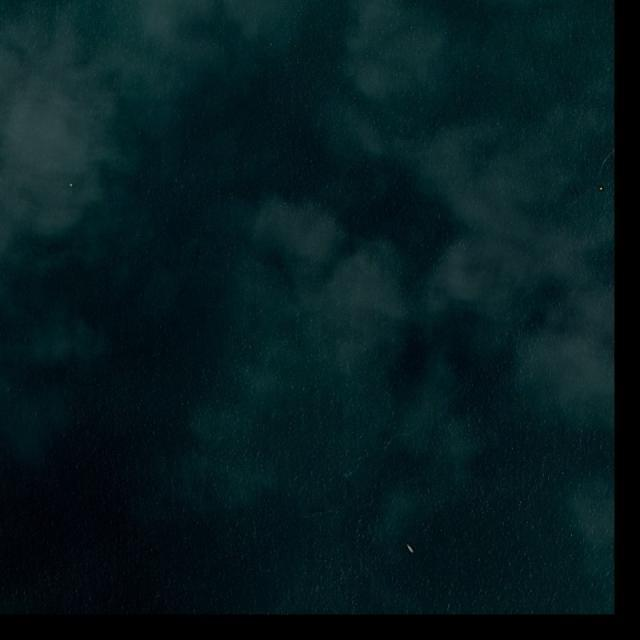ship: (406, 543, 415, 554)
